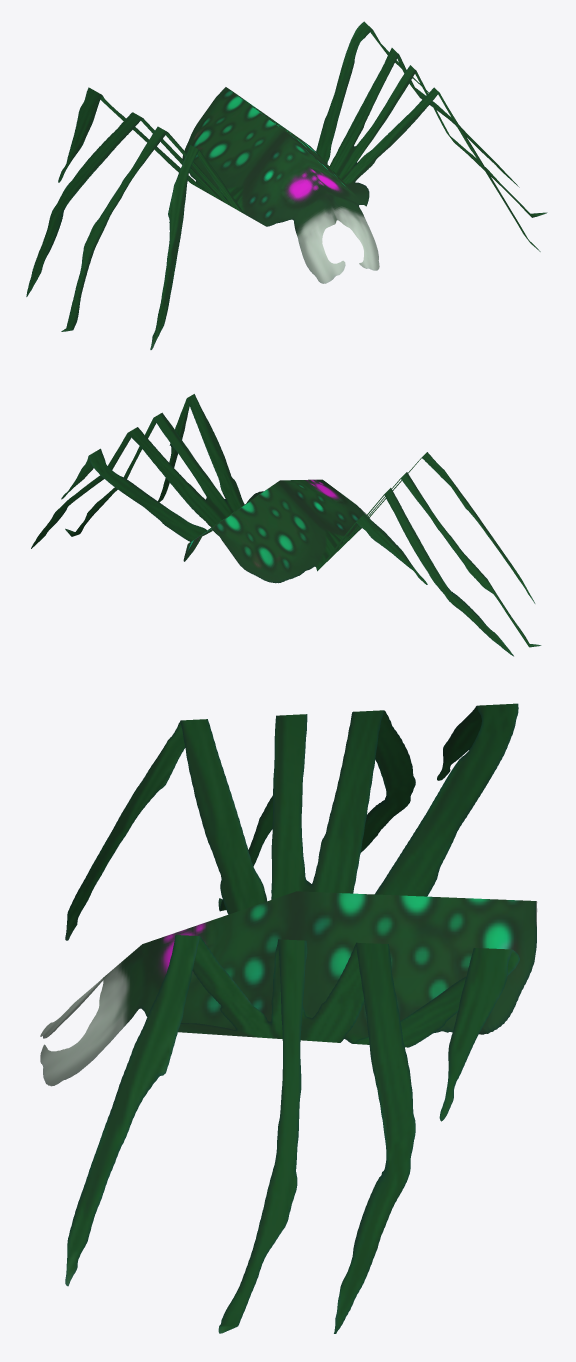
Rendered from SpiderGreen.fbx.
3 renders of one model, top to bottom at view 1: azimuth 30°, elevation 25°; view 2: azimuth 150°, elevation 25°; view 3: azimuth 270°, elevation 25°, orthographic. The views are drawn at different scales.
Visible parts, largest first — view 1: GreenSpider; view 2: GreenSpider; view 3: GreenSpider.
Part boxes in pixels (box(x1,y1,x2,y2)): GreenSpider: box(26, 21, 547, 349); GreenSpider: box(31, 394, 541, 656); GreenSpider: box(40, 703, 537, 1333).
Bounding box in the file's own units: 3.16 × 0.9384 × 1.58.
Materials: 1 (1 with a texture image).
